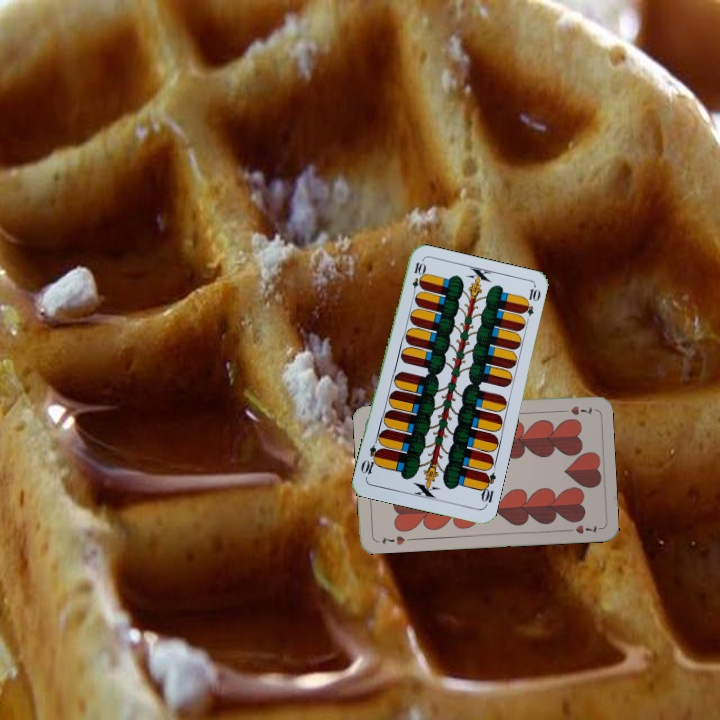E10: (477, 469, 498, 509), (408, 258, 426, 299)
H7: (556, 402, 595, 418), (378, 531, 407, 547)
